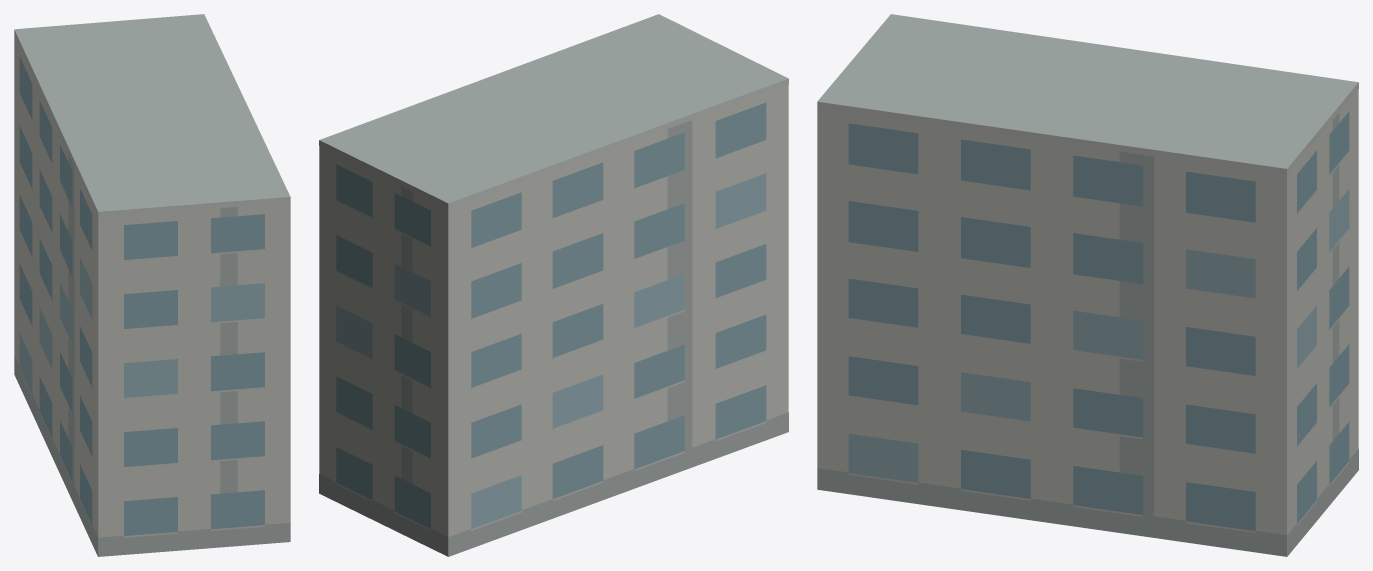
The model's file is survey-upis-32890076.glb.
The picture shows the model from 3 angles, left to right: view 1: azimuth 30°, elevation 25°; view 2: azimuth 150°, elevation 25°; view 3: azimuth 270°, elevation 25°; orthographic projection. The views are drawn at different scales.
Visible parts, largest first — view 1: survey-upis-32890076.tmp; view 2: survey-upis-32890076.tmp; view 3: survey-upis-32890076.tmp.
Part boxes in pixels (<box>): survey-upis-32890076.tmp: <box>14,14,290,556</box>; survey-upis-32890076.tmp: <box>319,14,788,556</box>; survey-upis-32890076.tmp: <box>817,14,1358,556</box>.
Bounding box in the file's own units: 12.17 × 14.2 × 17.97.
